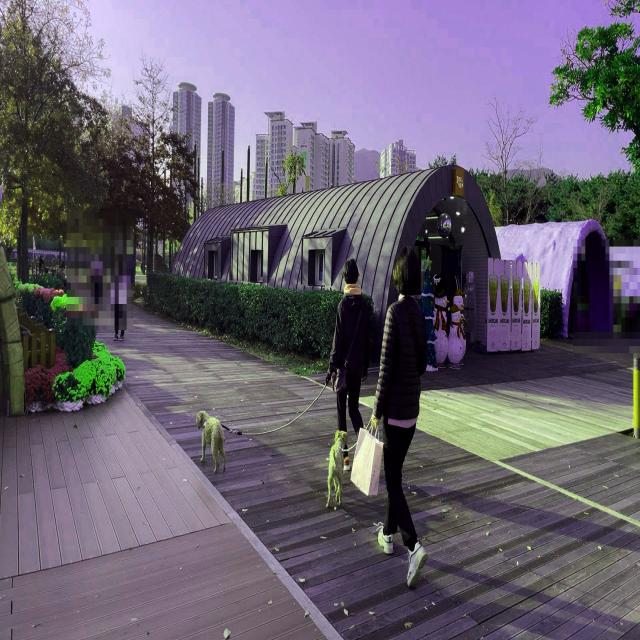Leashed_Dog: (195, 361, 352, 476), (325, 382, 401, 510)
